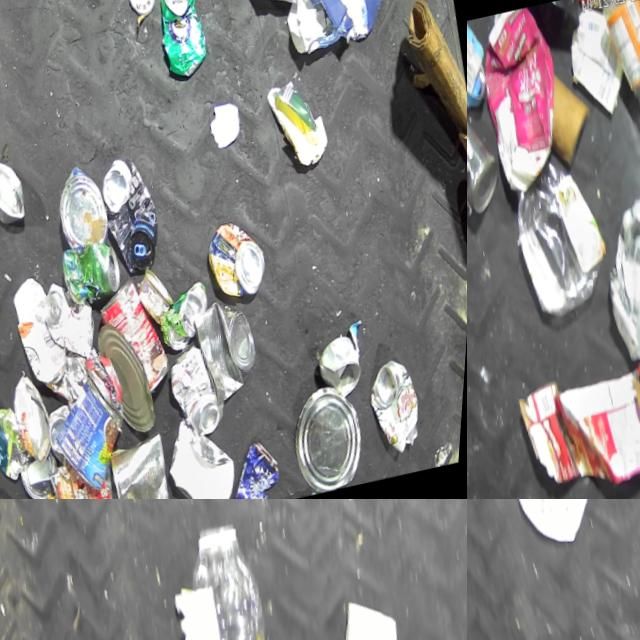can: (48, 369, 147, 499), (94, 273, 184, 402), (286, 379, 381, 499), (93, 151, 174, 277), (190, 294, 273, 409), (94, 317, 169, 440), (366, 355, 436, 459), (166, 340, 238, 441), (203, 215, 277, 304), (41, 274, 109, 366), (51, 160, 118, 250), (467, 96, 511, 220), (148, 0, 216, 80), (11, 369, 66, 467), (109, 430, 184, 499), (63, 237, 132, 307), (158, 280, 222, 354), (226, 435, 294, 499), (316, 334, 374, 404), (51, 456, 133, 499), (136, 264, 184, 328), (0, 148, 34, 227), (22, 449, 71, 499), (48, 403, 87, 465), (122, 0, 160, 17)
non_white_jug: (467, 2, 582, 196), (502, 152, 622, 320)
plastic_bottle: (590, 0, 640, 153)
